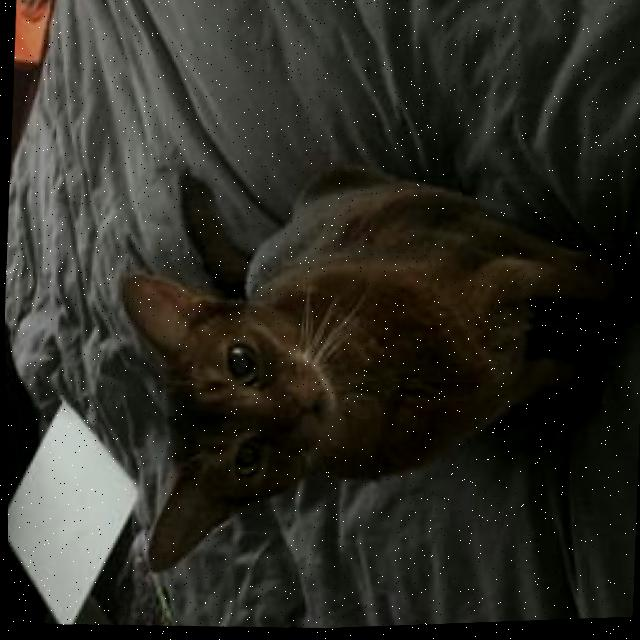Abyssinian: (98, 143, 640, 603)
